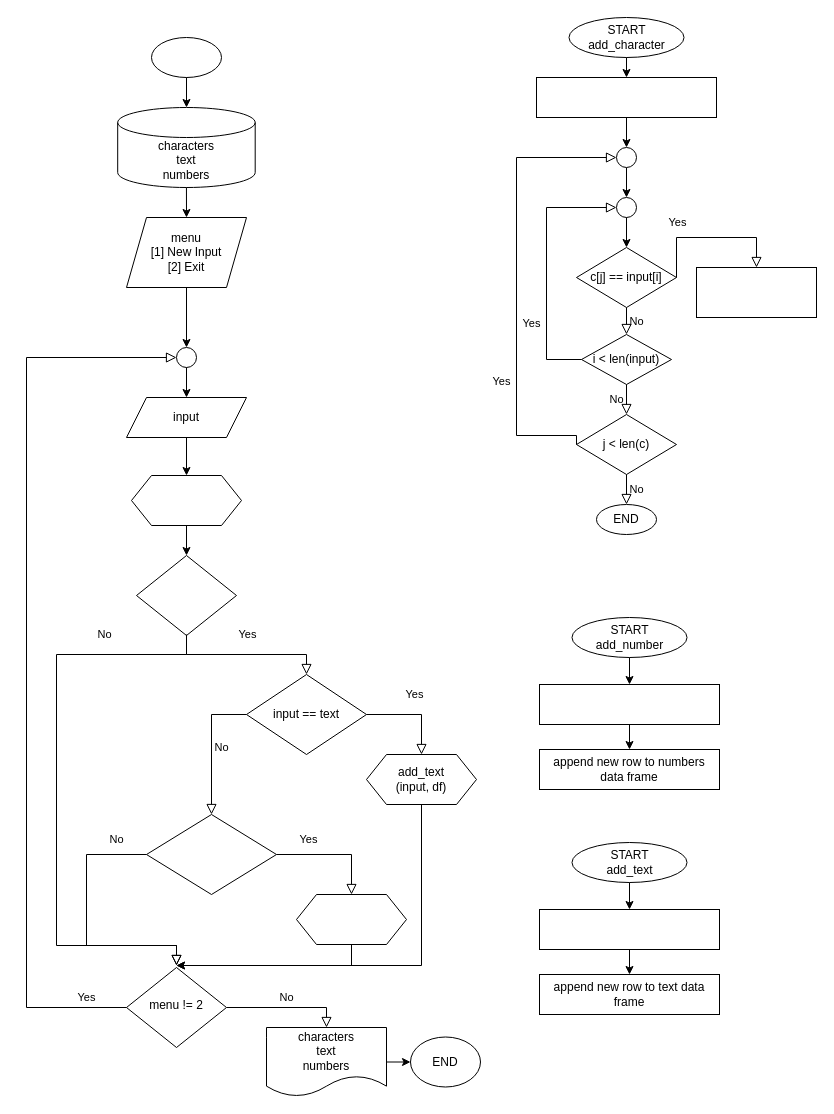
Image size: 834x1114. Some labels were removed from this diagram. The box of each missing label's shape, as (x1, y1, x2, y2) in pixels:
acumulado = acumulado + input: (538, 684, 720, 724)
add_character (input, df): (130, 474, 242, 526)
add_number (input, df): (296, 894, 406, 944)
append c[j] to characters data frame n = n+ 1: (696, 266, 816, 318)
c = list of special characters n = 0: (536, 76, 716, 118)
inicio = input[0] fin = input[len(input) - 1]: (538, 908, 720, 950)
input == number: (146, 814, 276, 894)
n == 0: (136, 554, 236, 636)
START: (150, 36, 222, 78)
